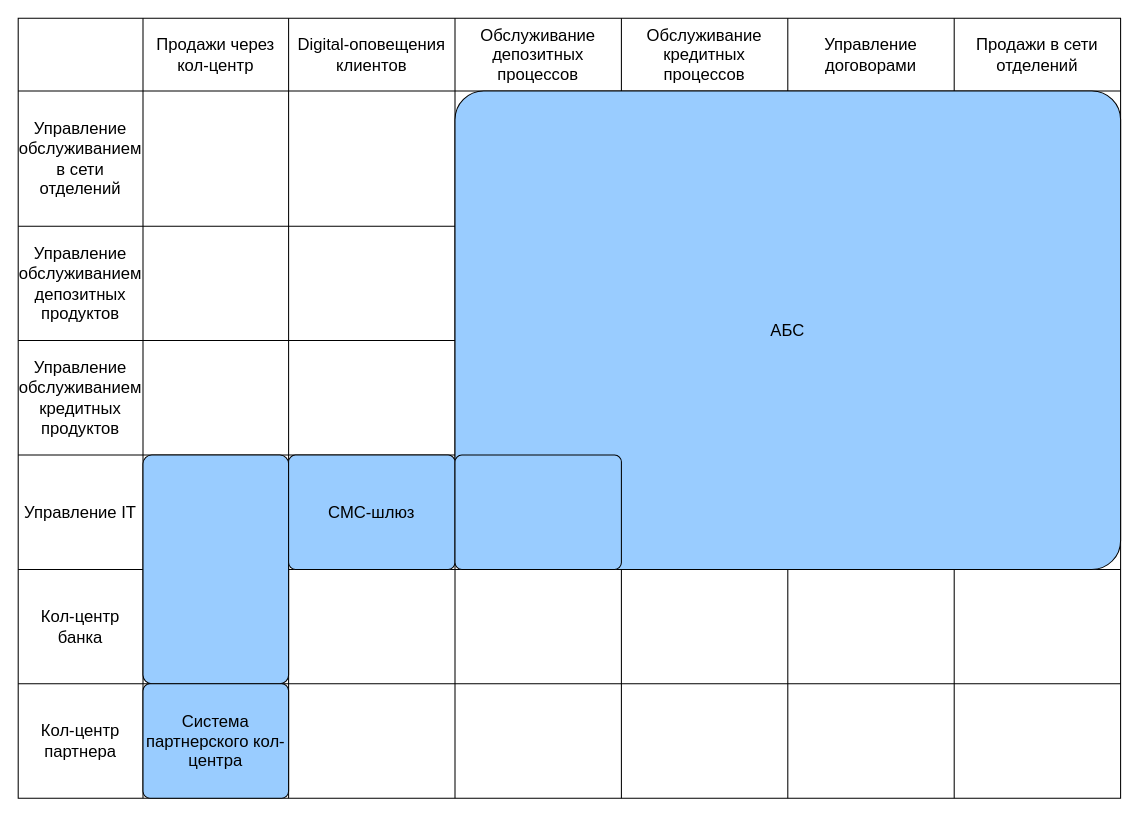
This 1139x816 diagram has some shape labels left out. The centre of each missing label's shape, as x and y in pixels:
"Интернет-банк" belongs at [537,511].
"Система кол-центра" belongs at [215,569].
